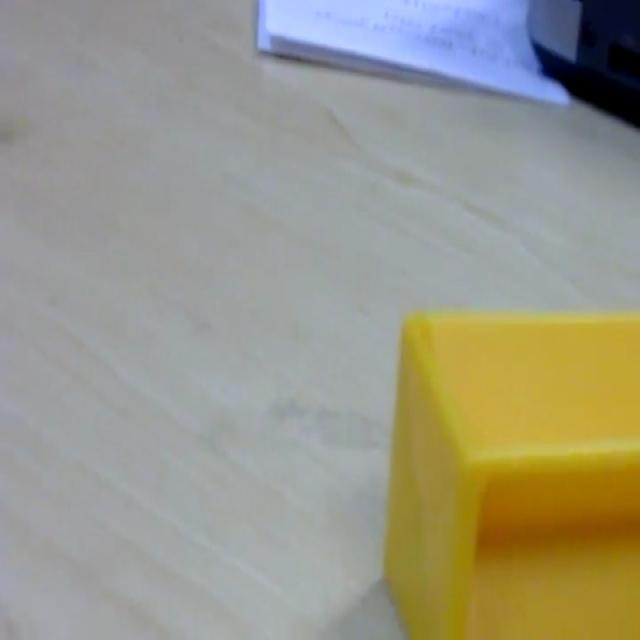yellow_block: (382, 305, 638, 636)
